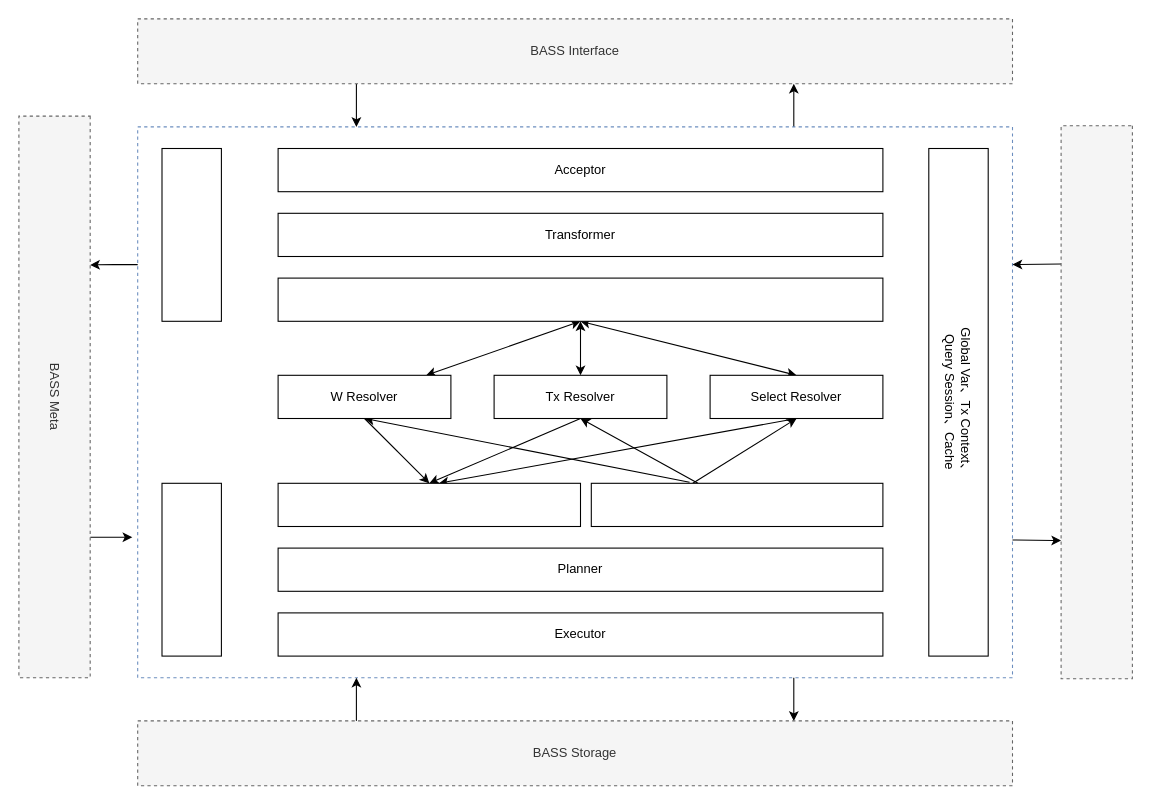
This 1151x805 diagram has some shape labels left out. Each missing label, with the box of its shape:
BASS Monitor: (1060, 125, 1132, 679)
Combiner: (590, 482, 883, 526)
Dispatcher: (277, 277, 883, 321)
Logic Navigator: (161, 147, 221, 321)
Scatter: (277, 482, 580, 526)
Storage Navigator: (161, 482, 221, 656)
